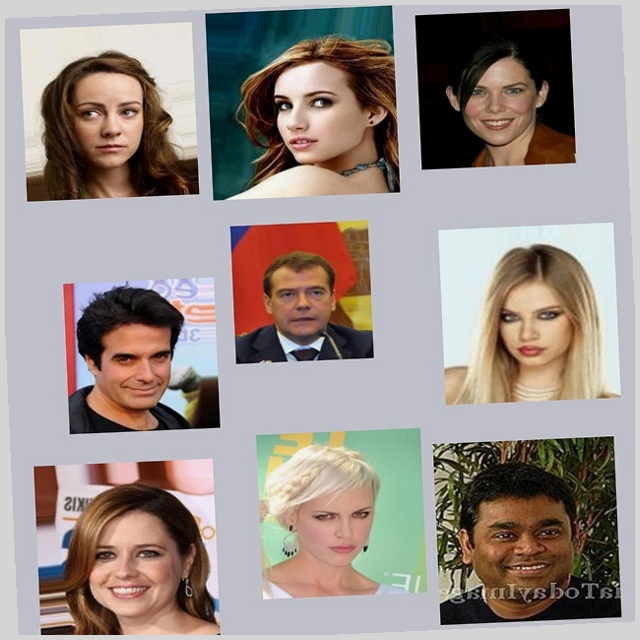celeb_10002: (438, 241, 621, 423)
celeb_2336: (61, 262, 218, 419)
celeb_2619: (233, 219, 376, 363)
celeb_2970: (224, 5, 419, 200)
celeb_4422: (38, 4, 218, 184)
celeb_4428: (14, 441, 201, 628)
celeb_5695: (435, 25, 596, 186)
celeb_7: (414, 454, 603, 640)
celeb_797: (239, 429, 411, 601)
